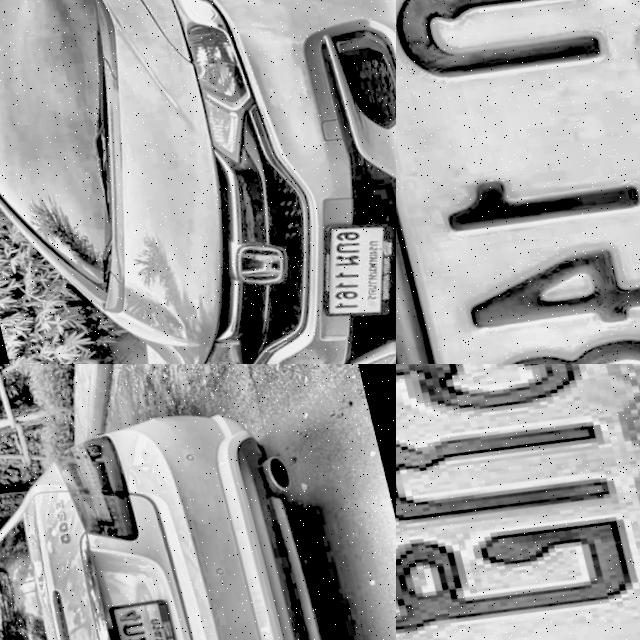license-plate: (396, 0, 640, 364), (396, 364, 640, 640), (291, 194, 396, 325), (101, 590, 189, 640)
